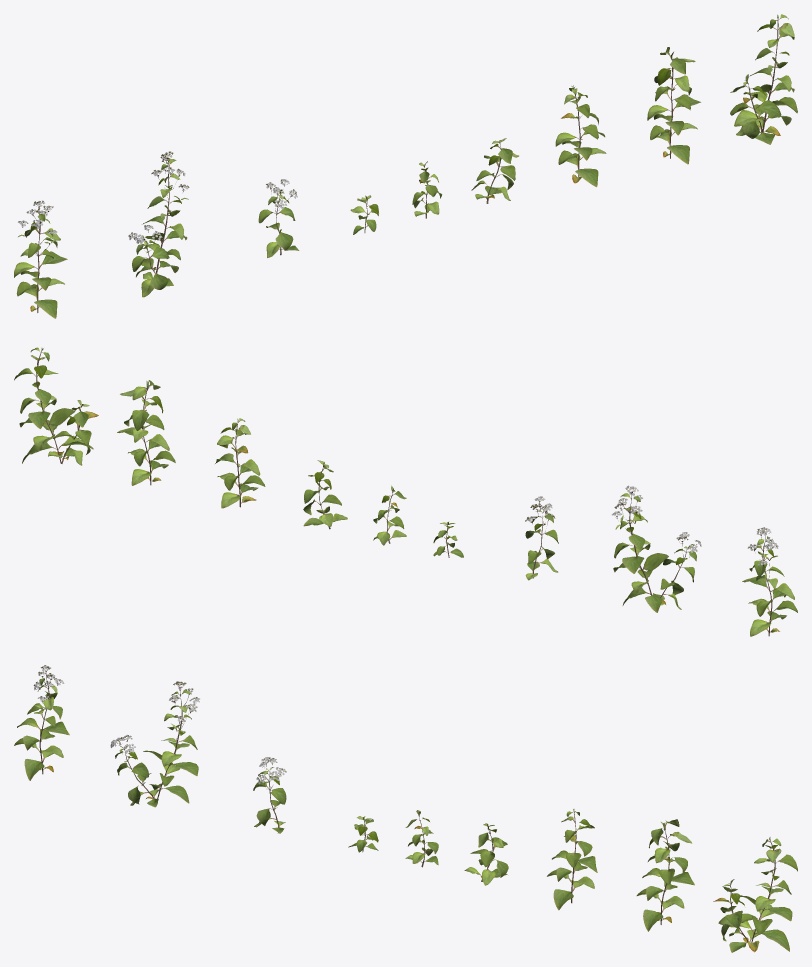
Rendered from shrub_01.glb.
3 views of the same model, one above another, from view 1: azimuth 30°, elevation 25°; view 2: azimuth 150°, elevation 25°; view 3: azimuth 330°, elevation 25° (orthographic). The views are drawn at different scales.
Visible parts, largest first — view 1: shrub_01_a; view 2: shrub_01_a; view 3: shrub_01_a.
Boxes of the visible parts, left/top/right/bottom form: shrub_01_a: left=14, top=14, right=797, bottom=318; shrub_01_a: left=14, top=347, right=797, bottom=636; shrub_01_a: left=14, top=665, right=797, bottom=952.
Bounding box in the file's own units: 2.59 × 0.3959 × 0.2185.
Materials: 1 (1 with a texture image).
